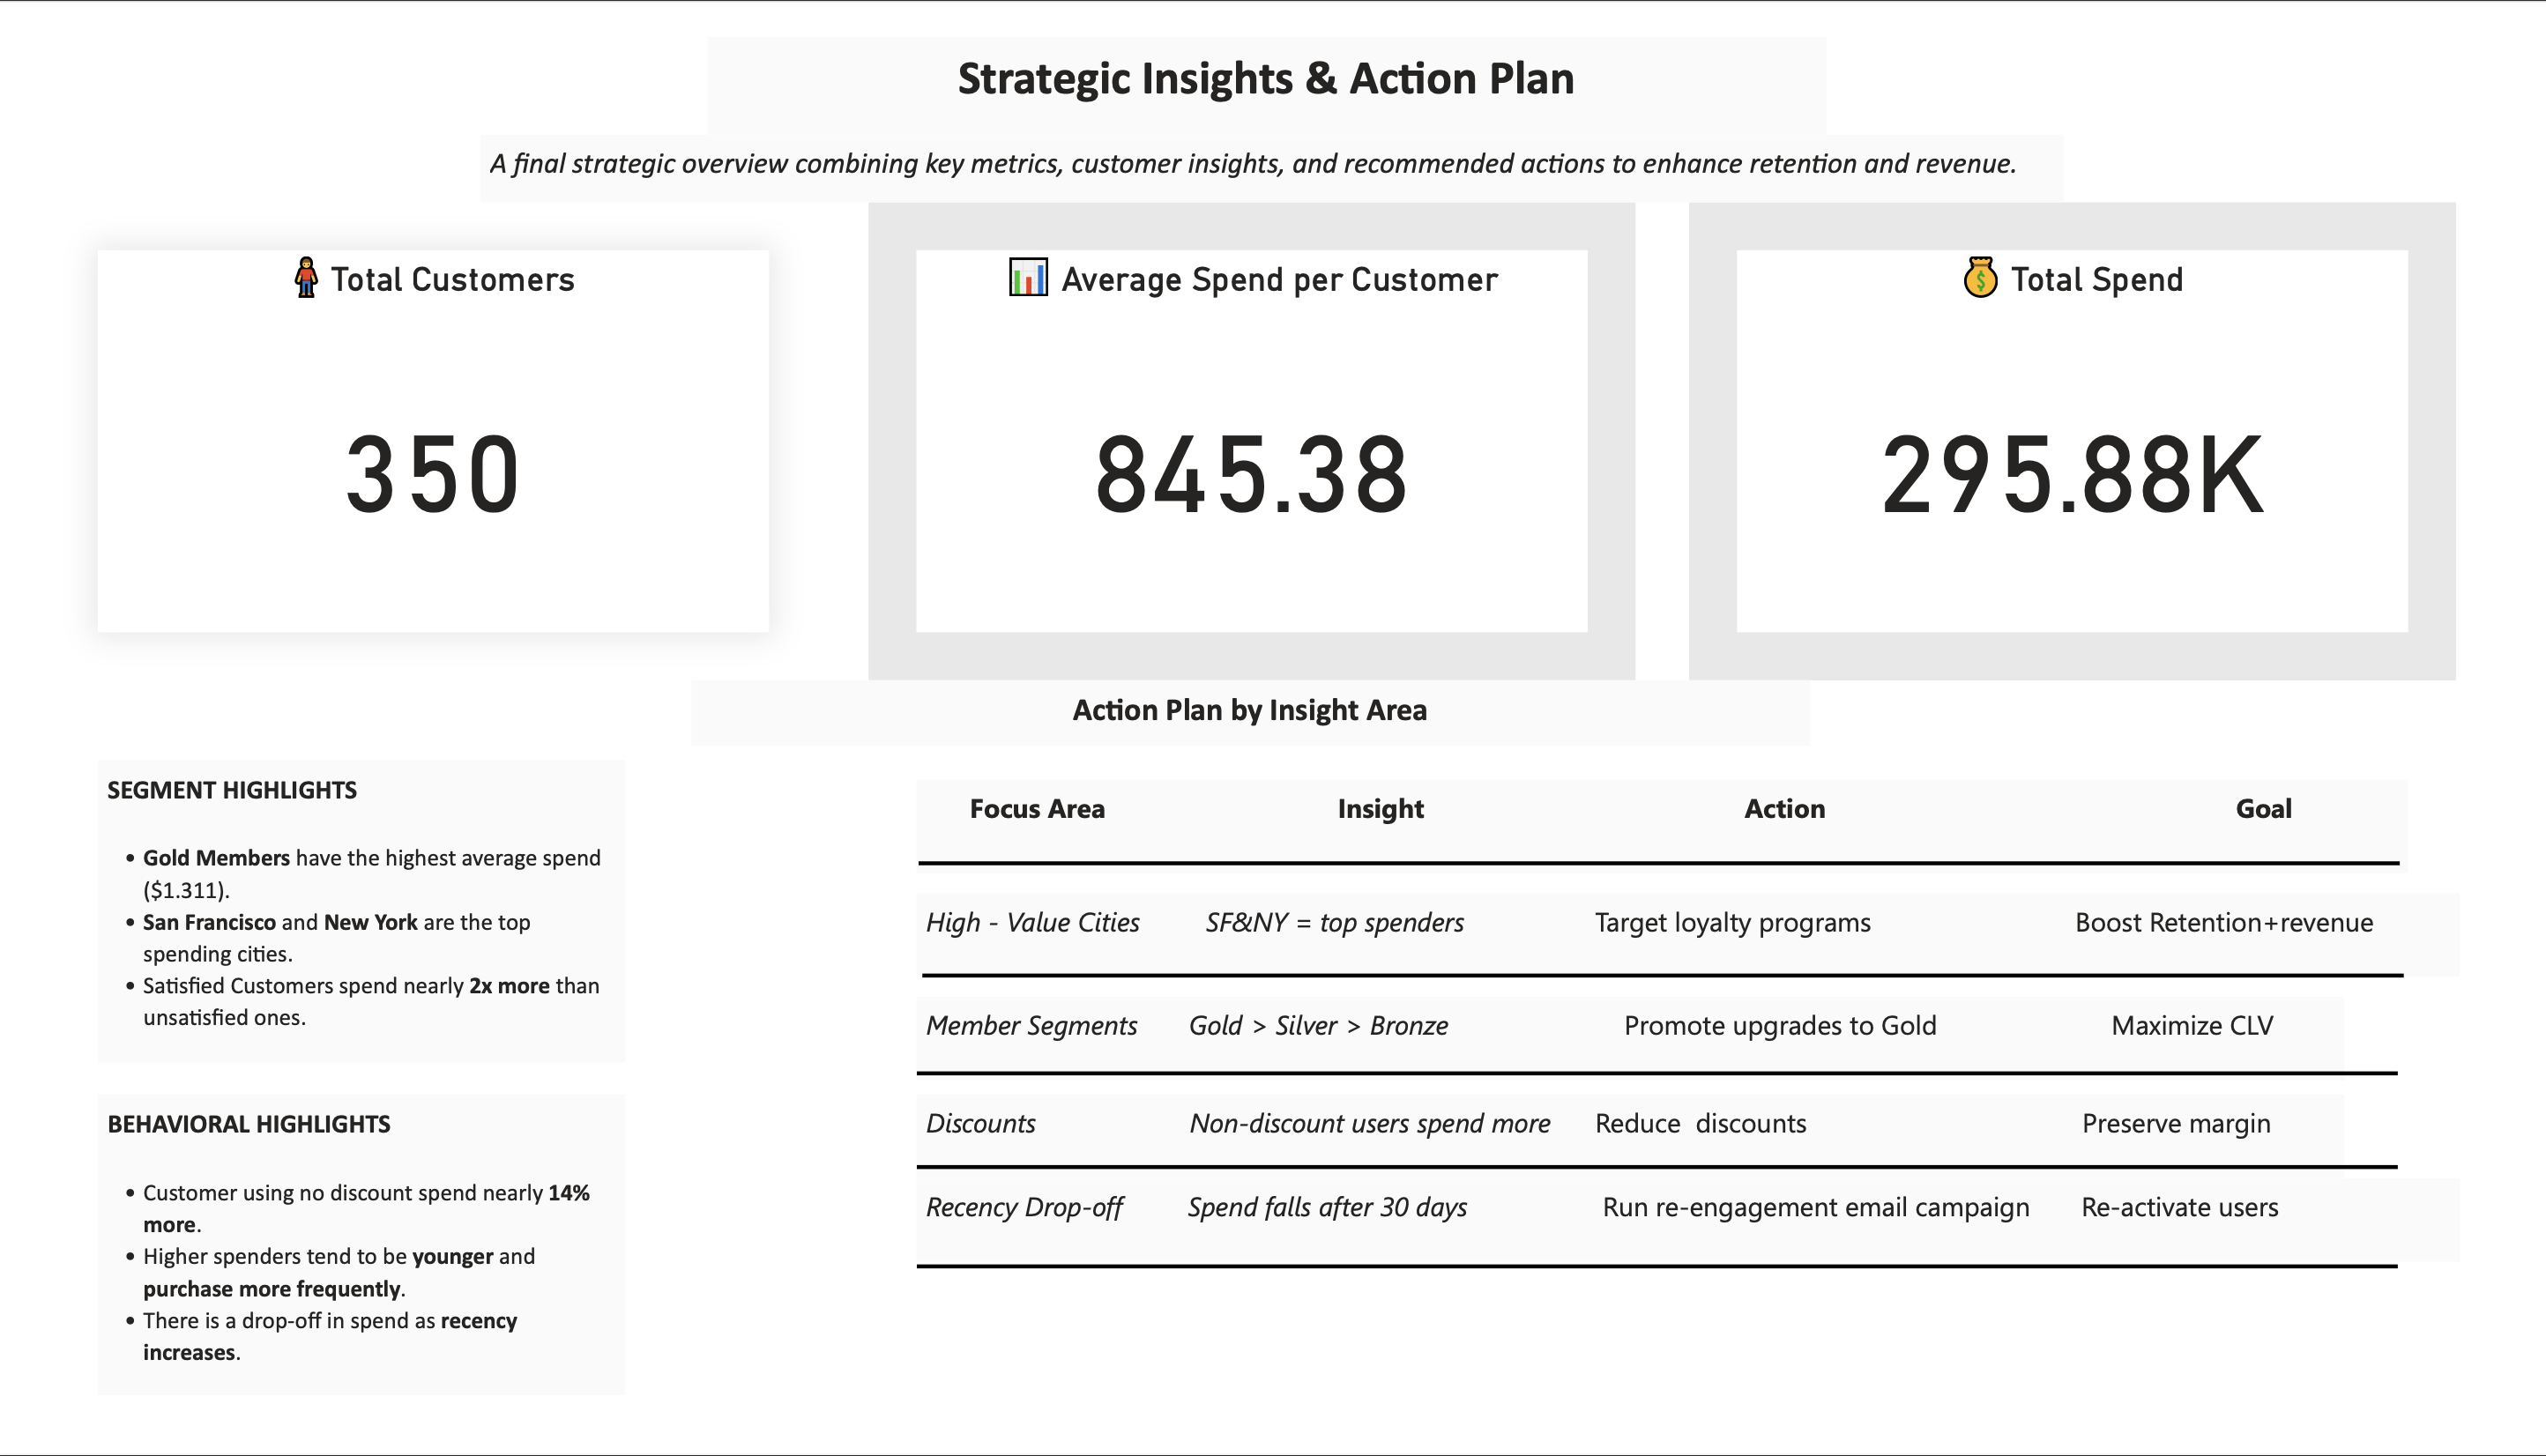

The dashboard page shown, as its layout file describes it:
{"tool":"powerbi","page":{"name":"Page 6","canvas":[1280,720],"ordinal":5},"visuals":[{"type":"textbox","box":[356.5,12.9,562,48.7],"z":0},{"type":"card","title":"🧍♂️ Total Customers","fields":{"Values":["CountNonNull(E-commerce Customer Behavior - Sheet1.Customer ID)"]},"box":[49.7,120.2,336.6,191.7],"z":1000},{"type":"card","title":"💰 Total Spend","fields":{"Values":["Sum(E-commerce Customer Behavior - Sheet1.Total Spend)"]},"box":[872.9,120.2,336.6,191.7],"z":2000},{"type":"card","title":"📊 Average Spend per Customer","fields":{"Values":["Avg(E-commerce Customer Behavior - Sheet1.Total Spend)"]},"box":[460.8,120.2,336.6,191.7],"z":3000},{"type":"textbox","box":[49.7,376.4,265.1,151.9],"z":4000},{"type":"textbox","box":[49.7,544.2,265.1,150.9],"z":5000},{"type":"textbox","box":[460.8,442.9,774.6,41.7],"z":6000},{"type":"textbox","box":[460.8,386.3,748.7,46.7],"z":7000},{"type":"textbox","box":[460.8,494.5,717,41.7],"z":8000},{"type":"textbox","box":[460.8,544.2,717,41.7],"z":9000},{"type":"textbox","box":[460.8,585.9,774.6,41.7],"z":10000},{"type":"textbox","box":[347.6,335.6,562,32.8],"z":11000},{"type":"textbox","box":[242.3,61.6,795.4,33.8],"z":12000},{"type":"shape","box":[460.8,523.3,743.8,20.9],"z":13000},{"type":"shape","box":[460.8,575,743.8,10.9],"z":14000},{"type":"shape","box":[460.8,606.7,743.8,46.7],"z":15000},{"type":"shape","box":[461.8,423,743.8,9.9],"z":16000},{"type":"shape","box":[463.7,458.8,743.8,50.6],"z":17000}]}

Visuals, with their boxes in screenshot pixels (x1, y1, x2, y2), scaled from the page's 1280x720 canvas onto the 2546x1456 screenshot:
textbox: region(709, 26, 1827, 124)
"🧍♂️ Total Customers" card: region(99, 243, 769, 631)
"💰 Total Spend" card: region(1736, 243, 2406, 631)
"📊 Average Spend per Customer" card: region(917, 243, 1586, 631)
textbox: region(99, 761, 626, 1068)
textbox: region(99, 1101, 626, 1406)
textbox: region(917, 895, 2457, 980)
textbox: region(917, 781, 2406, 875)
textbox: region(917, 1000, 2342, 1084)
textbox: region(917, 1101, 2342, 1185)
textbox: region(917, 1185, 2457, 1269)
textbox: region(691, 679, 1809, 745)
textbox: region(482, 124, 2064, 193)
shape: region(917, 1059, 2396, 1101)
shape: region(917, 1163, 2396, 1185)
shape: region(917, 1227, 2396, 1321)
shape: region(919, 856, 2398, 875)
shape: region(922, 928, 2401, 1030)
